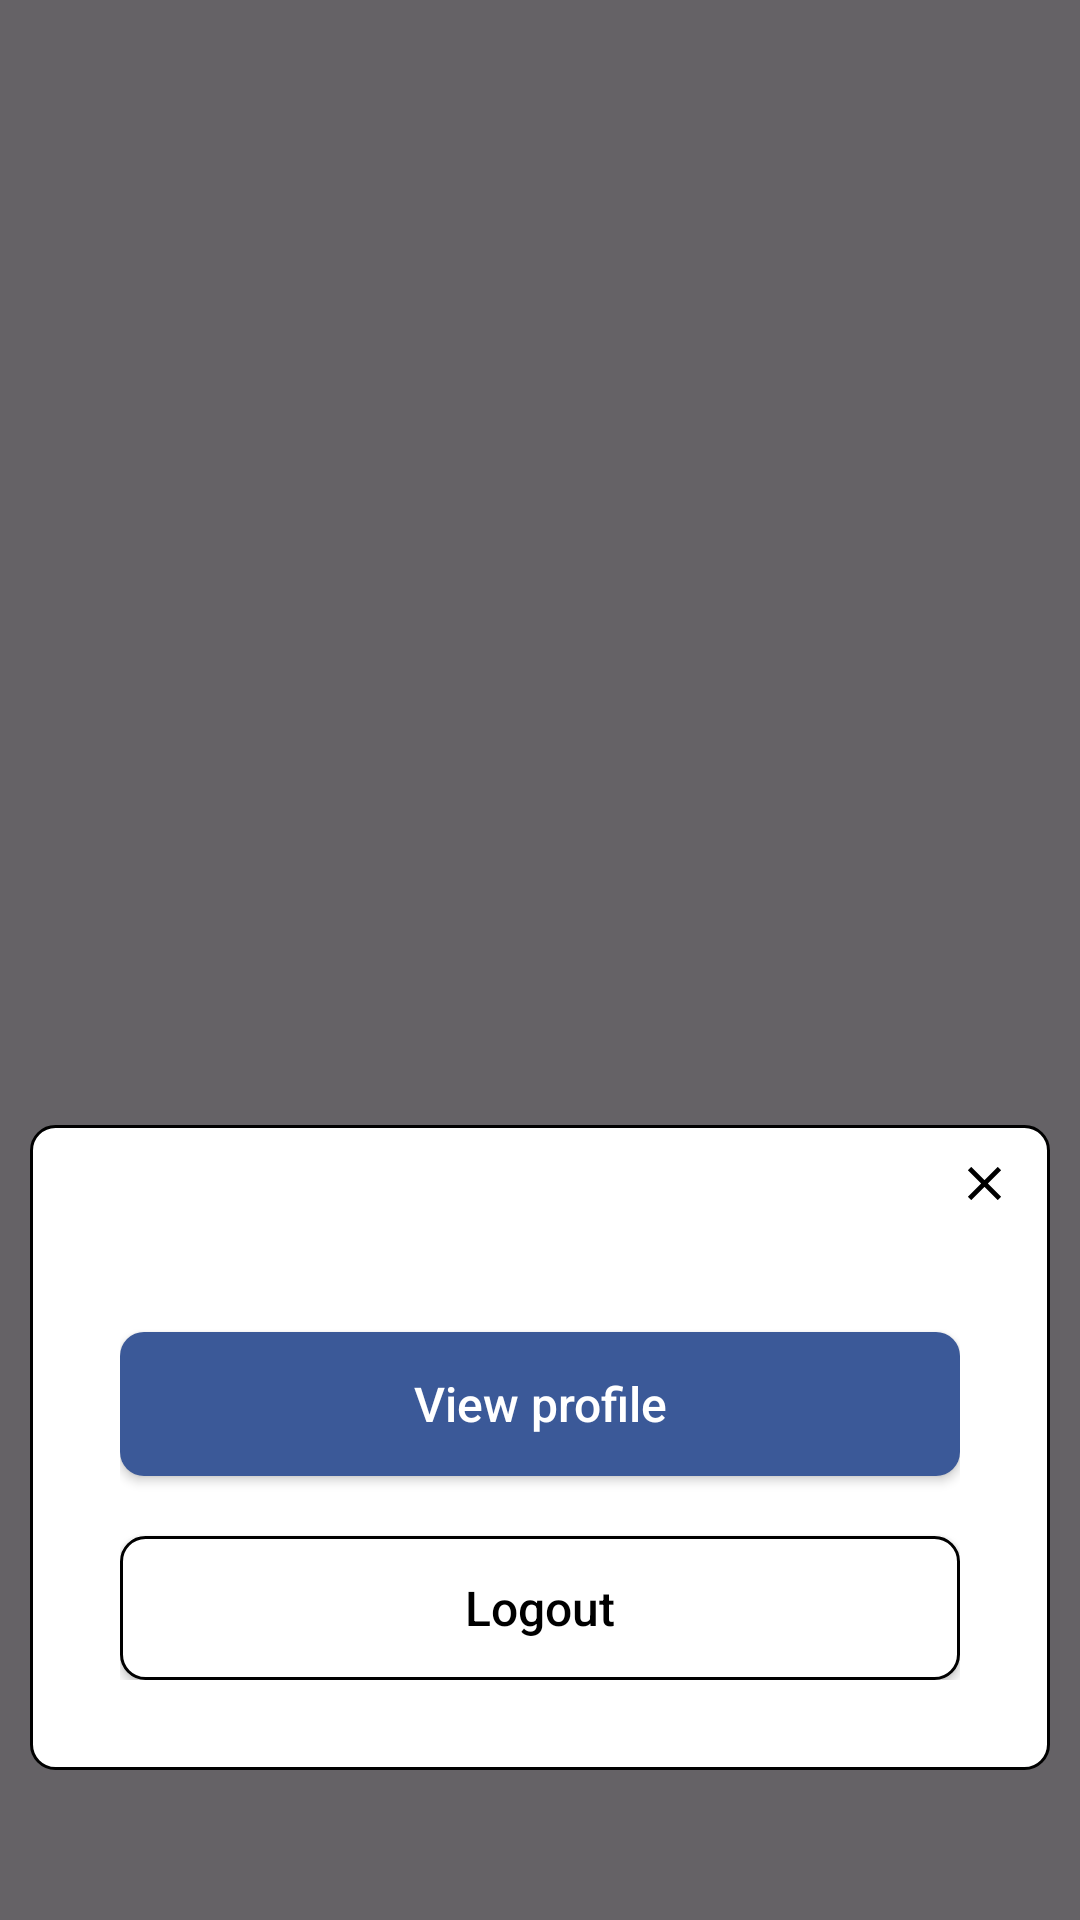

Icons on this 1080px×1920px Android screen, each with the point to tap as point (x, y):
close: point (984, 1183)
